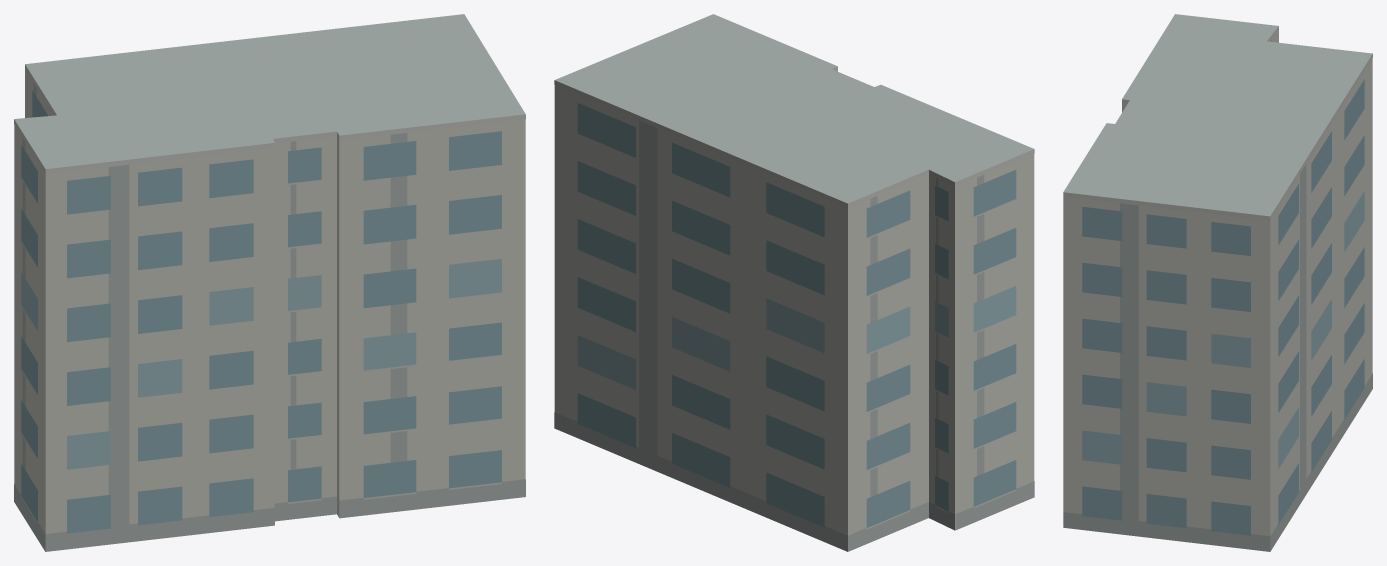
File: survey-upis-32803148.glb
3 views of the same model, side by side, from view 1: azimuth 30°, elevation 25°; view 2: azimuth 150°, elevation 25°; view 3: azimuth 270°, elevation 25° (orthographic). The views are drawn at different scales.
Visible parts, largest first — view 1: survey-upis-32803148.tmp; view 2: survey-upis-32803148.tmp; view 3: survey-upis-32803148.tmp.
Boxes of the visible parts, x1=… form: survey-upis-32803148.tmp: x1=14, y1=14, x2=525, y2=551; survey-upis-32803148.tmp: x1=554, y1=14, x2=1034, y2=551; survey-upis-32803148.tmp: x1=1063, y1=14, x2=1372, y2=551.
Size of the model in its own units: 23.68 by 18.3 by 15.31.
